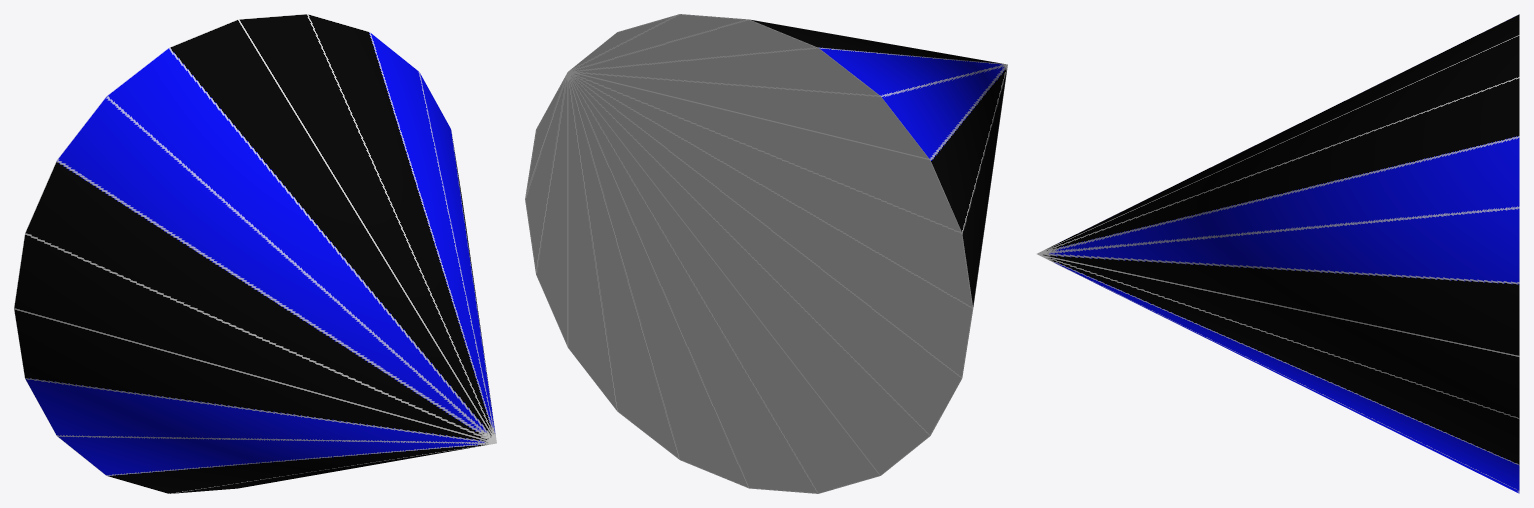
The model's file is slow_tower.fbx.
The picture shows the model from 3 angles, left to right: view 1: azimuth 30°, elevation 25°; view 2: azimuth 150°, elevation 25°; view 3: azimuth 270°, elevation 25°; orthographic projection. The views are drawn at different scales.
Visible parts, largest first — view 1: pCone1; view 2: pCone1; view 3: pCone1.
Part boxes in pixels (bbox=[...]): pCone1: bbox=[14, 14, 496, 493]; pCone1: bbox=[525, 14, 1007, 493]; pCone1: bbox=[1037, 14, 1519, 493].
Bounding box in the file's own units: 2 × 2 × 2.
1 material, 1 textured.
